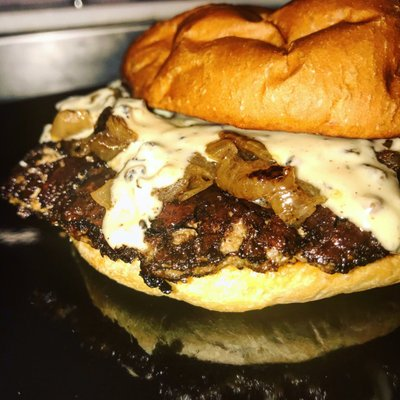soup: (6, 1, 400, 364)
